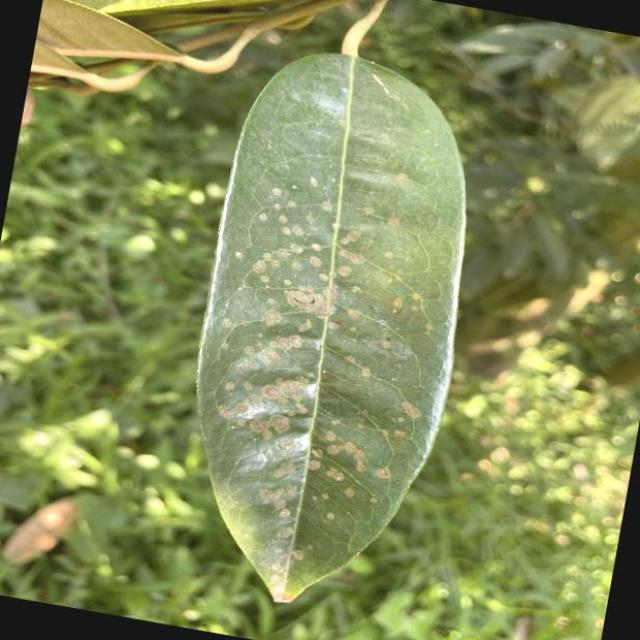Algal Leaf Spot: (148, 20, 520, 640)
